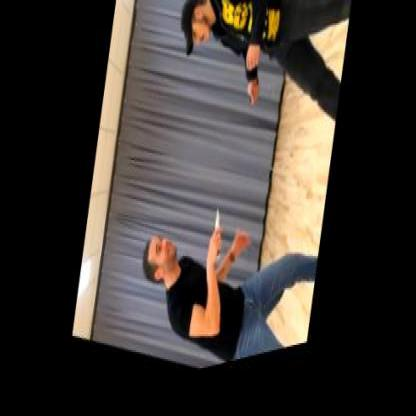knife: (202, 212, 225, 274)
